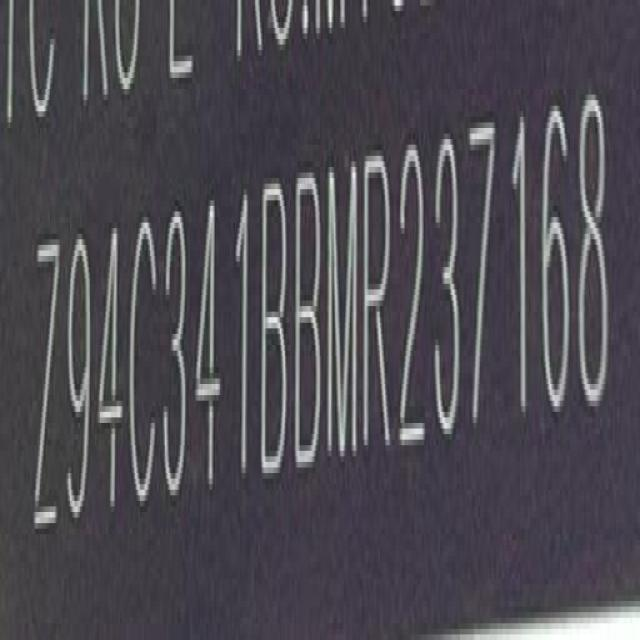1: (512, 109, 531, 431), (234, 184, 252, 493)
2: (398, 140, 429, 453)
3: (435, 133, 463, 449), (163, 208, 190, 497)
4: (97, 227, 127, 526), (197, 199, 226, 505)
6: (543, 102, 574, 420)
7: (467, 111, 499, 438)
8: (578, 95, 610, 413)
9: (67, 236, 93, 539)
B: (296, 165, 326, 478), (260, 176, 290, 484)
C: (130, 217, 162, 518)
M: (327, 157, 361, 473)
R: (363, 151, 394, 462)
Z: (35, 232, 63, 546)
